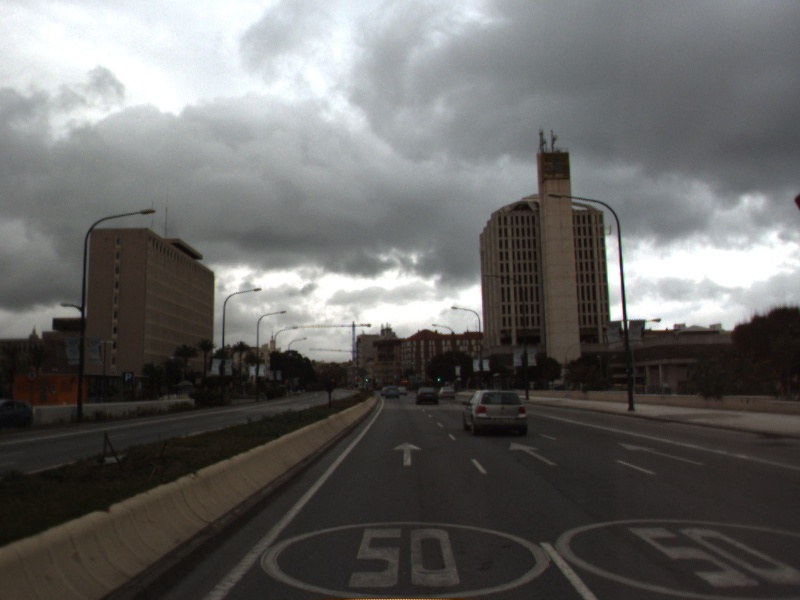STRAIGHT: (616, 440, 707, 468), (506, 439, 560, 468), (391, 439, 425, 468)
